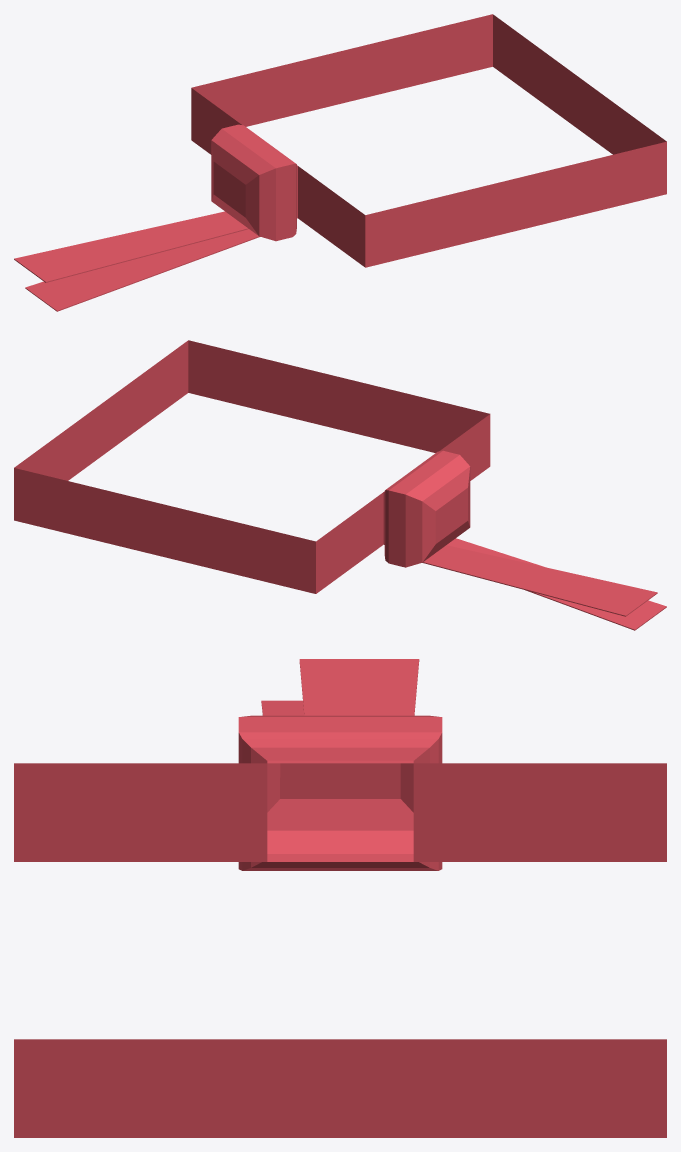
Rendered from Bandana.fbx.
3 renders of one model, top to bottom at view 1: azimuth 30°, elevation 25°; view 2: azimuth 150°, elevation 25°; view 3: azimuth 270°, elevation 25°, orthographic. The views are drawn at different scales.
Parts seen in each view (by area): view 1: bandana, bandana_tailD, bandana_tailD.001; view 2: bandana, bandana_tailD, bandana_tailD.001; view 3: bandana, bandana_tailD.
Boxes of the visible parts, x1,y1,x2,y2 form: bandana: (191, 14, 666, 267); bandana_tailD: (14, 211, 248, 282); bandana_tailD.001: (25, 229, 260, 311); bandana: (14, 340, 490, 593); bandana_tailD: (422, 545, 657, 616); bandana_tailD.001: (447, 538, 666, 630); bandana: (14, 715, 666, 1137); bandana_tailD: (299, 659, 419, 715).
Size of the model in its own units: 362 by 60.97 by 200.
